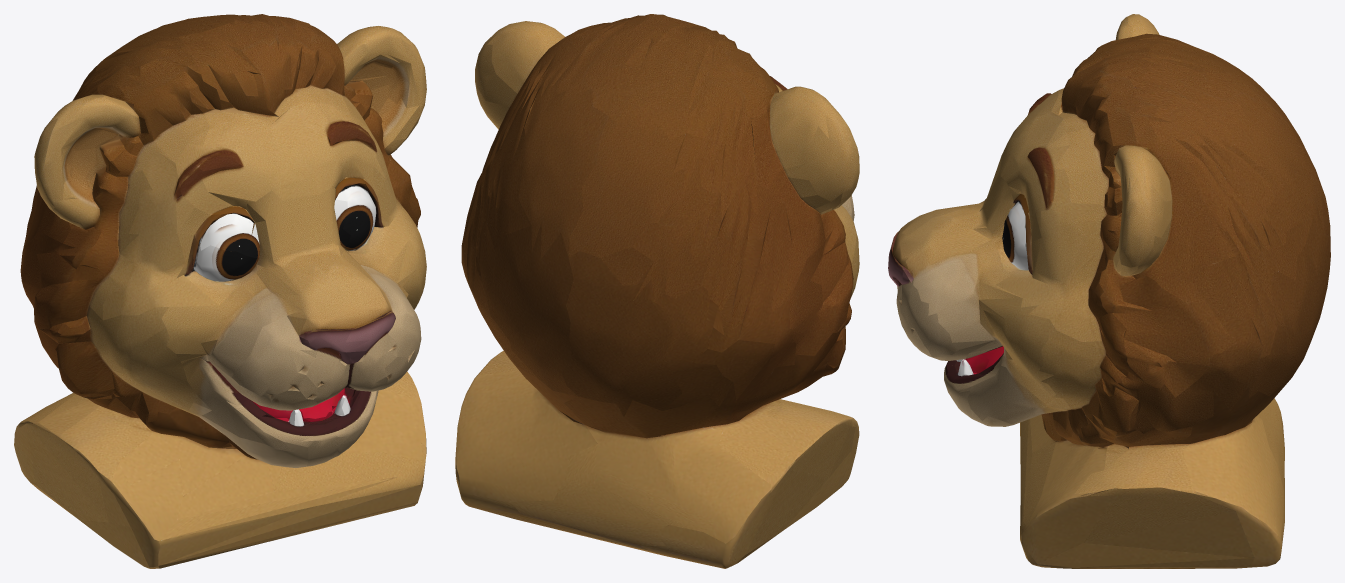
The model's file is mascot_head_dog.glb.
3 views of the same model, side by side, from view 1: azimuth 30°, elevation 25°; view 2: azimuth 150°, elevation 25°; view 3: azimuth 270°, elevation 25° (orthographic). The views are drawn at different scales.
Bounding box in the file's own units: 1.63 × 1.9 × 1.69.
Materials: 1 (1 with a texture image).
